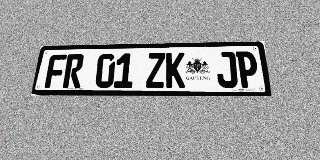0: (95, 54, 116, 88)
1: (114, 53, 134, 88)
F: (44, 54, 67, 88)
J: (216, 52, 238, 88)
K: (166, 52, 185, 88)
P: (236, 51, 260, 88)
R: (62, 54, 85, 88)
Z: (146, 53, 165, 88)
